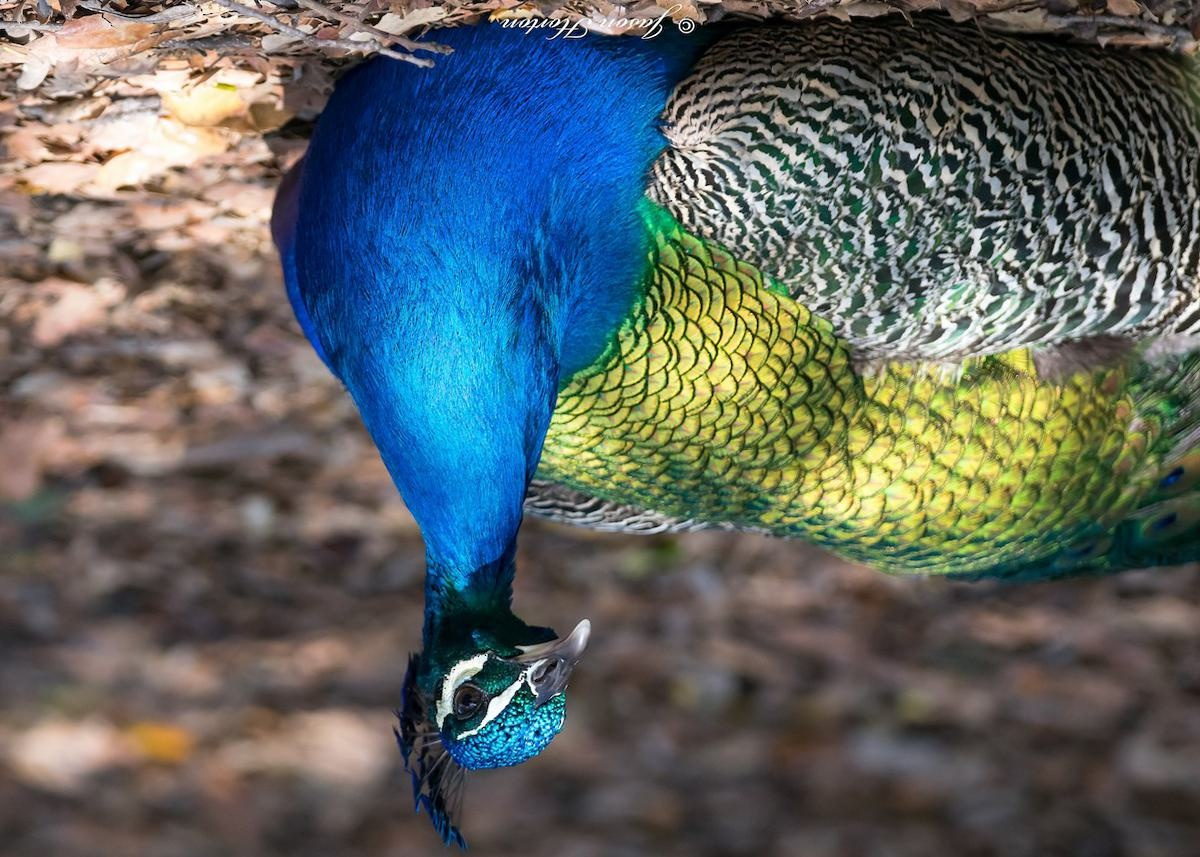peacock: (329, 8, 1200, 842)
